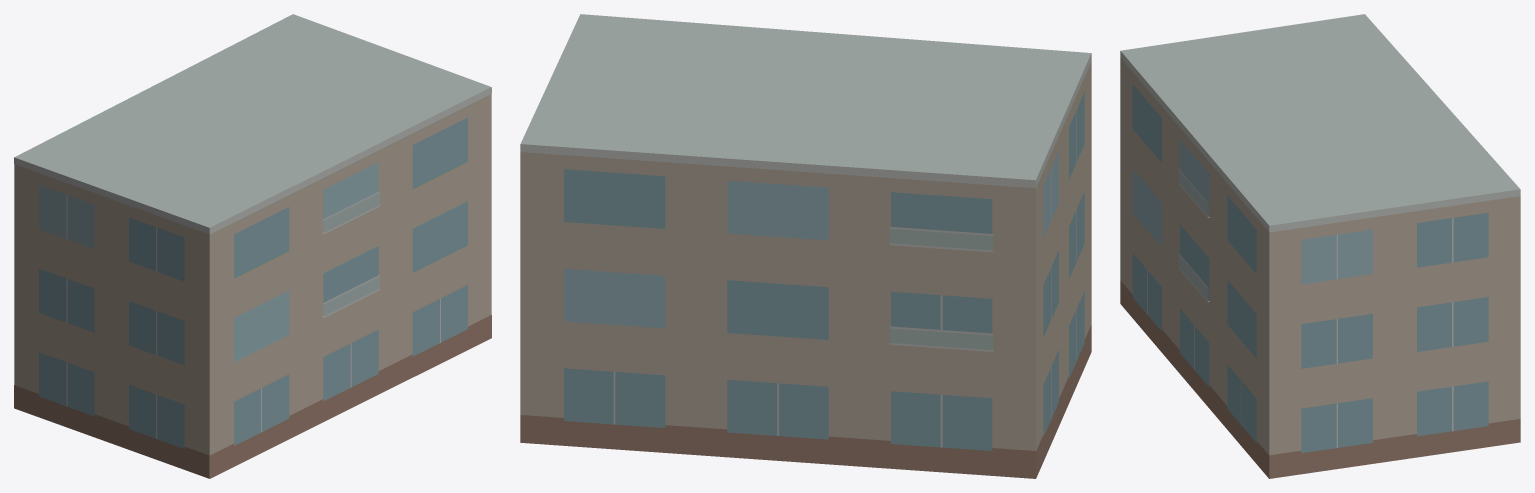
File: survey-upis-32752652.glb
The picture shows the model from 3 angles, left to right: view 1: azimuth 30°, elevation 25°; view 2: azimuth 150°, elevation 25°; view 3: azimuth 270°, elevation 25°; orthographic projection. The views are drawn at different scales.
Visible parts, largest first — view 1: survey-upis-32752652.tmp; view 2: survey-upis-32752652.tmp; view 3: survey-upis-32752652.tmp.
Part boxes in pixels (bbox=[...]): survey-upis-32752652.tmp: bbox=[14, 14, 491, 478]; survey-upis-32752652.tmp: bbox=[520, 14, 1091, 478]; survey-upis-32752652.tmp: bbox=[1120, 14, 1520, 478].
Bounding box in the file's own units: 16.43 × 9.15 × 13.12.
